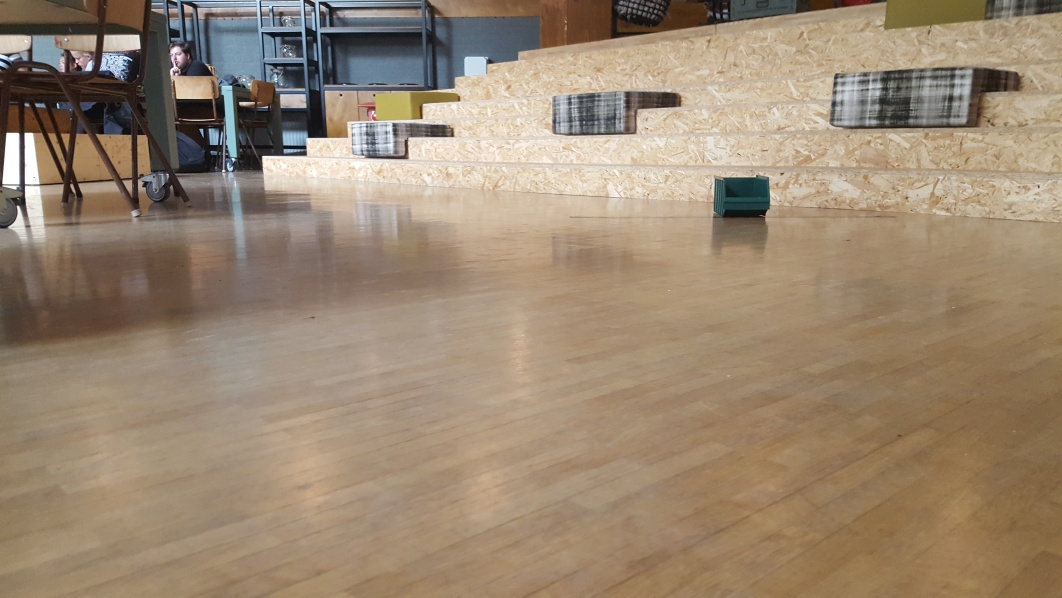tray: (708, 173, 773, 218)
